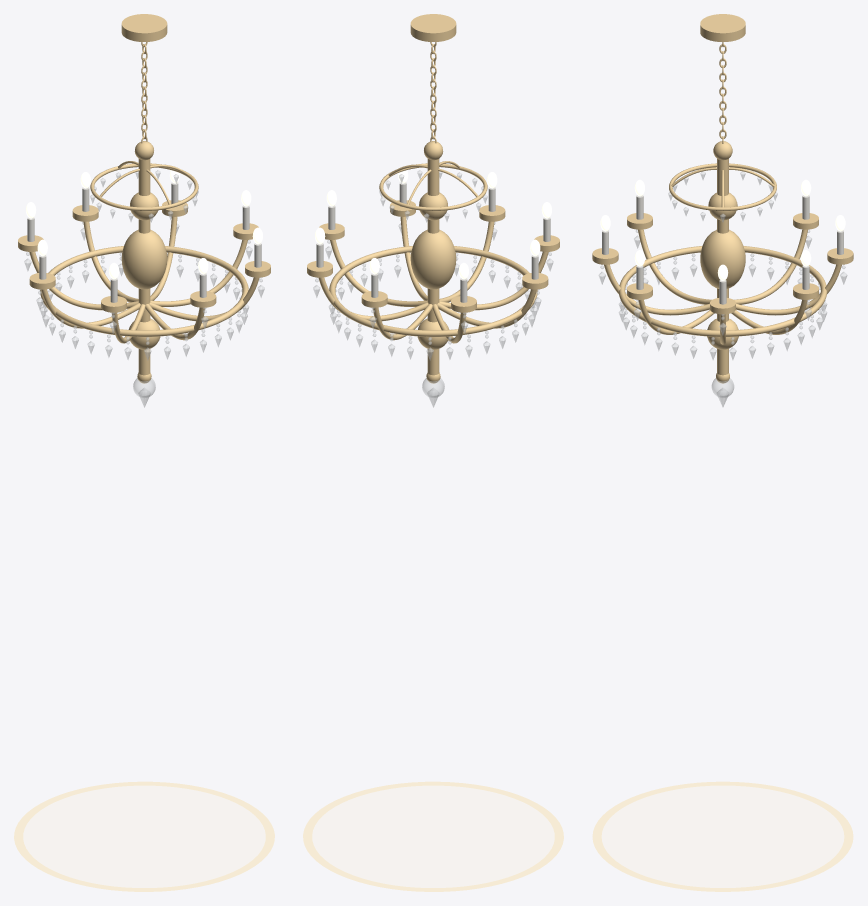
3 renders of one model, left to right at view 1: azimuth 30°, elevation 25°; view 2: azimuth 150°, elevation 25°; view 3: azimuth 270°, elevation 25°, orthographic.
Parts seen in each view (by area): view 1: Brass frame, Crystals, Ring, Candle sleeves, Bulbs; view 2: Brass frame, Crystals, Ring, Candle sleeves, Bulbs; view 3: Brass frame, Crystals, Ring, Candle sleeves, Bulbs.
Part boxes in pixels (bbox=[...]): Brass frame: bbox=[18, 14, 270, 383]; Crystals: bbox=[24, 170, 264, 407]; Ring: bbox=[14, 781, 274, 891]; Candle sleeves: bbox=[27, 182, 261, 302]; Bulbs: bbox=[26, 170, 262, 279]; Brass frame: bbox=[307, 14, 559, 383]; Crystals: bbox=[313, 170, 553, 407]; Ring: bbox=[303, 781, 563, 891]; Candle sleeves: bbox=[316, 182, 550, 302]; Bulbs: bbox=[315, 170, 551, 279]; Brass frame: bbox=[592, 14, 853, 383]; Crystals: bbox=[598, 171, 847, 406]; Ring: bbox=[592, 781, 853, 891]; Candle sleeves: bbox=[602, 195, 843, 304]; Bulbs: bbox=[600, 179, 845, 280].
Bounding box in the file's own units: 0.8 × 2.75 × 0.8.
